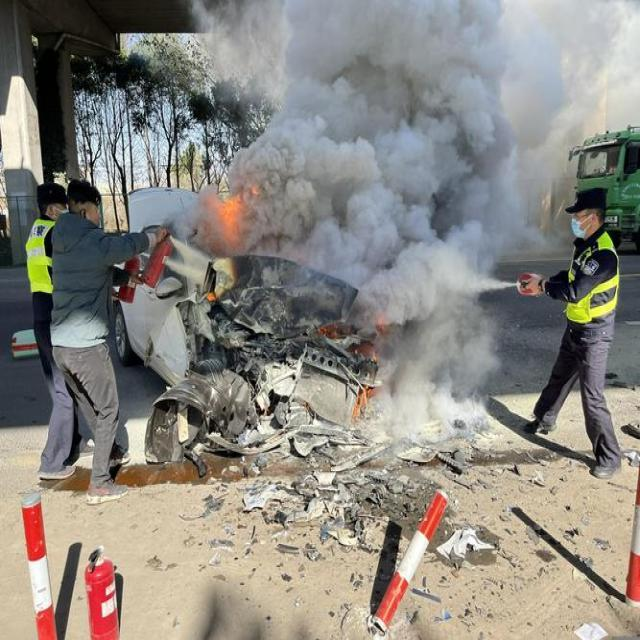Smoke: (200, 0, 536, 440)
